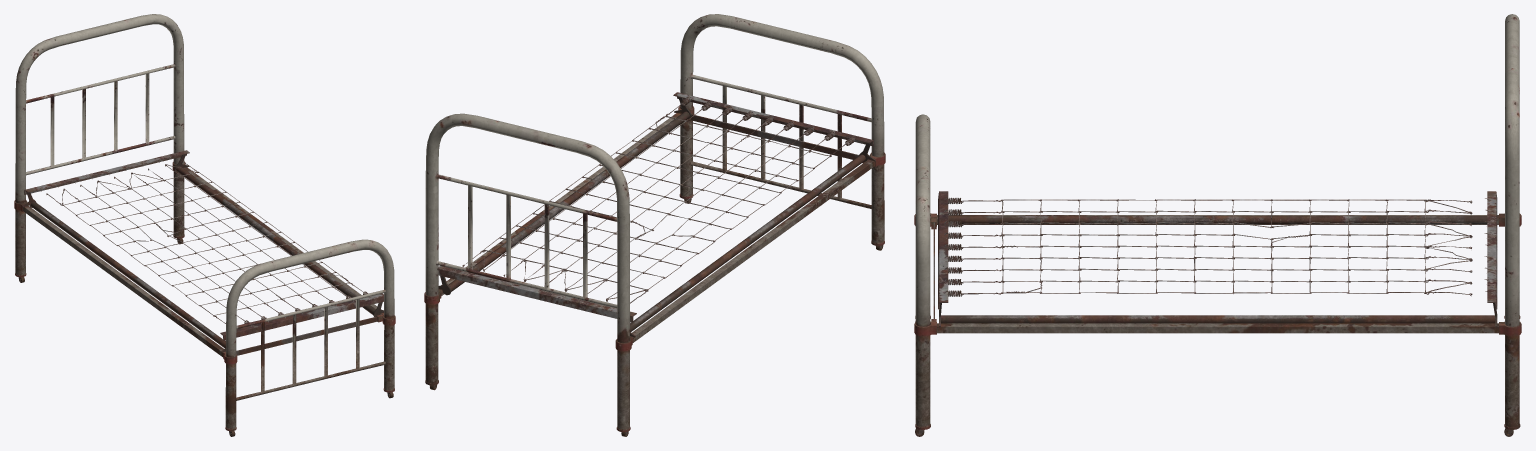
File: bed-old-frame.d8fbaed2.glb
3 renders of one model, left to right at view 1: azimuth 30°, elevation 25°; view 2: azimuth 150°, elevation 25°; view 3: azimuth 270°, elevation 25°, orthographic. The views are drawn at different scales.
Visible parts, largest first — view 1: model; view 2: model; view 3: model.
Boxes of the visible parts, x1,y1,x2,y2 form: model: (14,14,395,436); model: (424,14,885,436); model: (914,14,1521,436).
Size of the model in its own units: 0.9047 by 1.2 by 2.
Materials: 1 (1 with a texture image).
